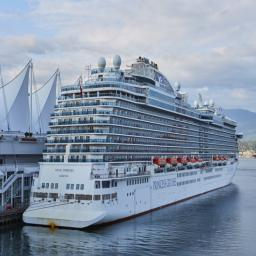cruises: (22, 53, 245, 234)
